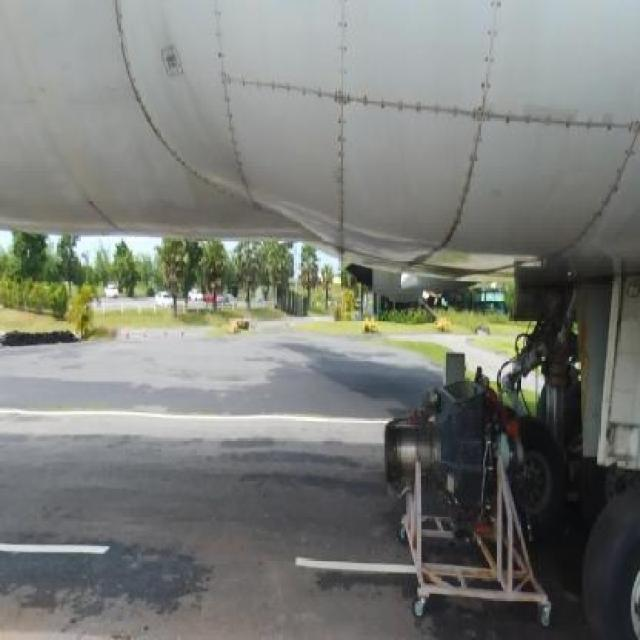Missing-Rivet: (572, 428, 597, 582)
Rust: (530, 218, 570, 487), (554, 81, 640, 170)
Scartch: (189, 273, 371, 429)
